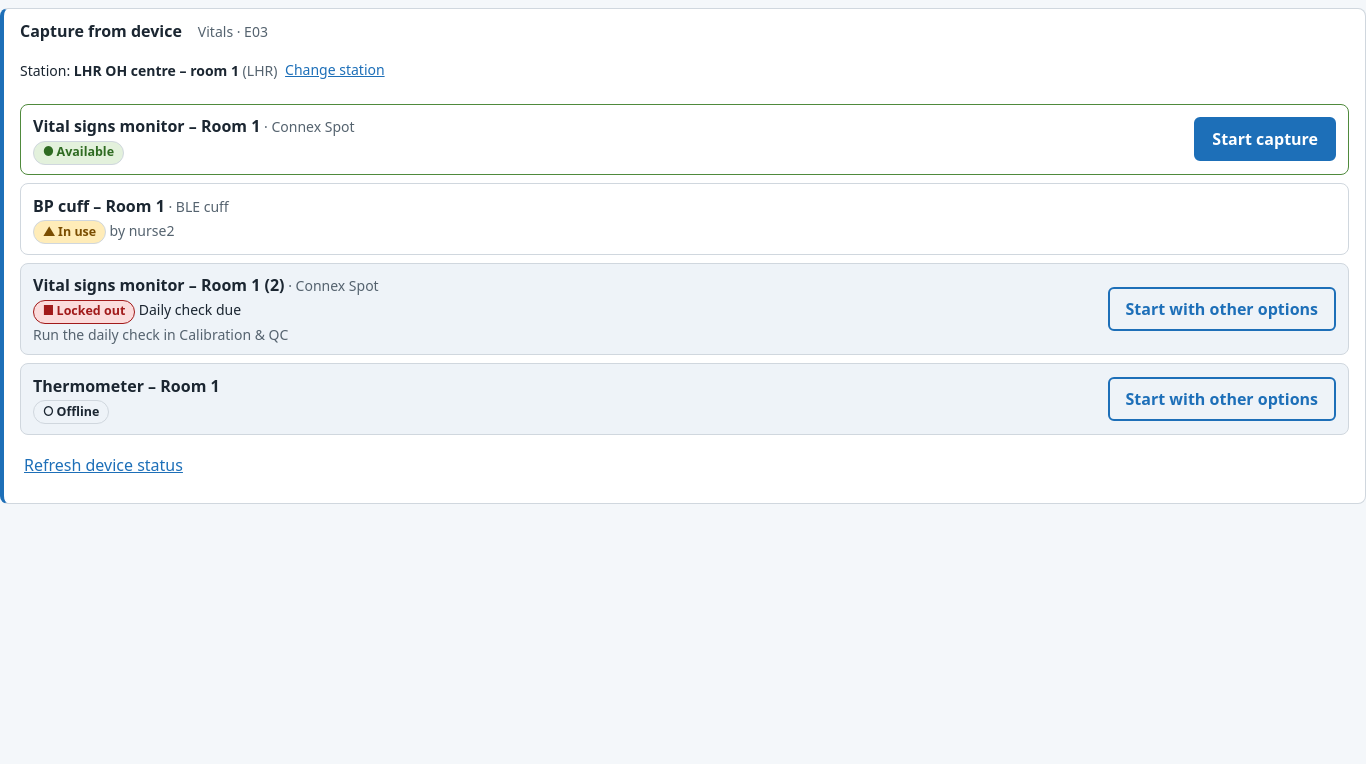
Test: Capture from device – session state transitions › a BLOCK flag disables posting, explains why and offers another device first
Click the button "Start capture" at (1265, 139), box [1194,117,1336,161]
(page scrolled)
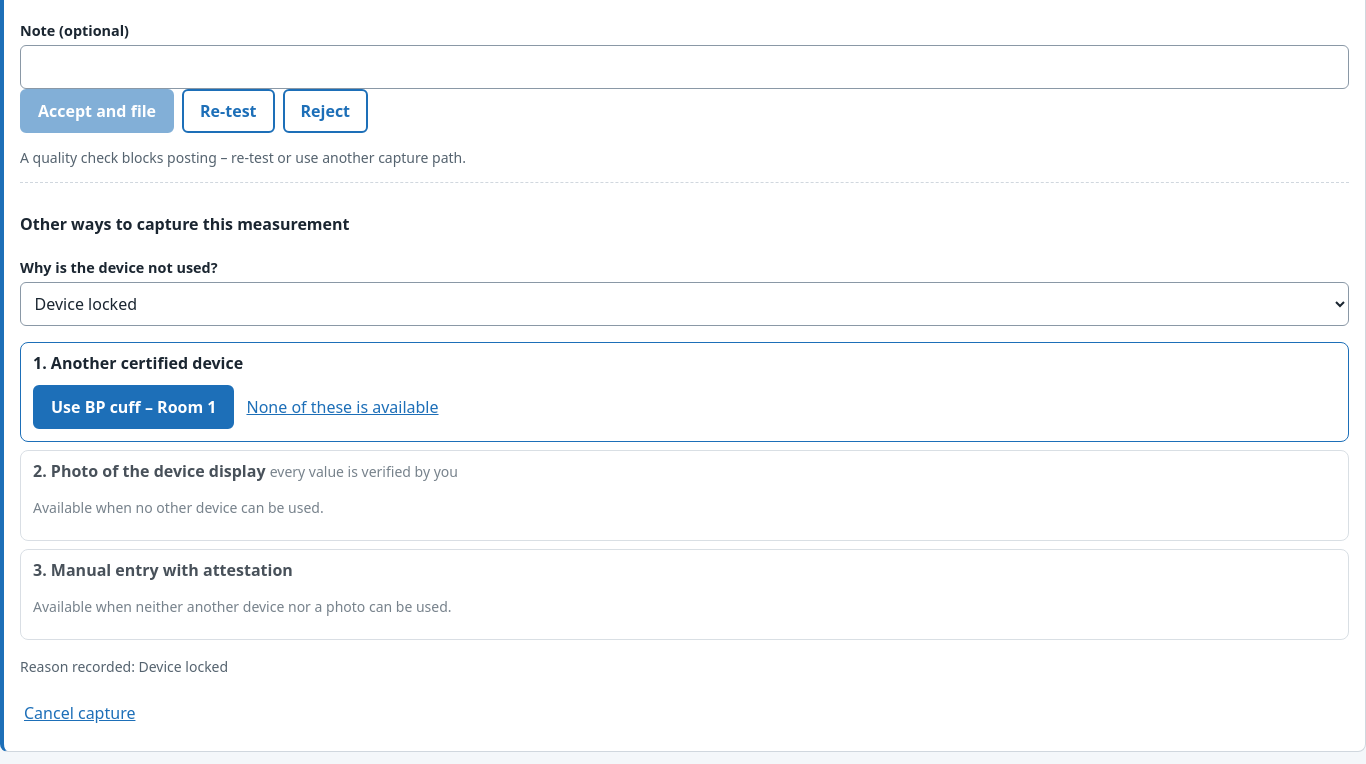
expect the button "Accept and file" is disabled: met, box [20,89,174,133]
expect the text "A quality check blocks posting" is shown: met, box [20,148,466,167]
expect the dropdown labelled "Why is the device not used?" shows "Device locked": met, box [20,282,1349,326]
Click the button "Use BP cuff – Room 1" at (134, 407), box [33,385,234,429]
(page scrolled)
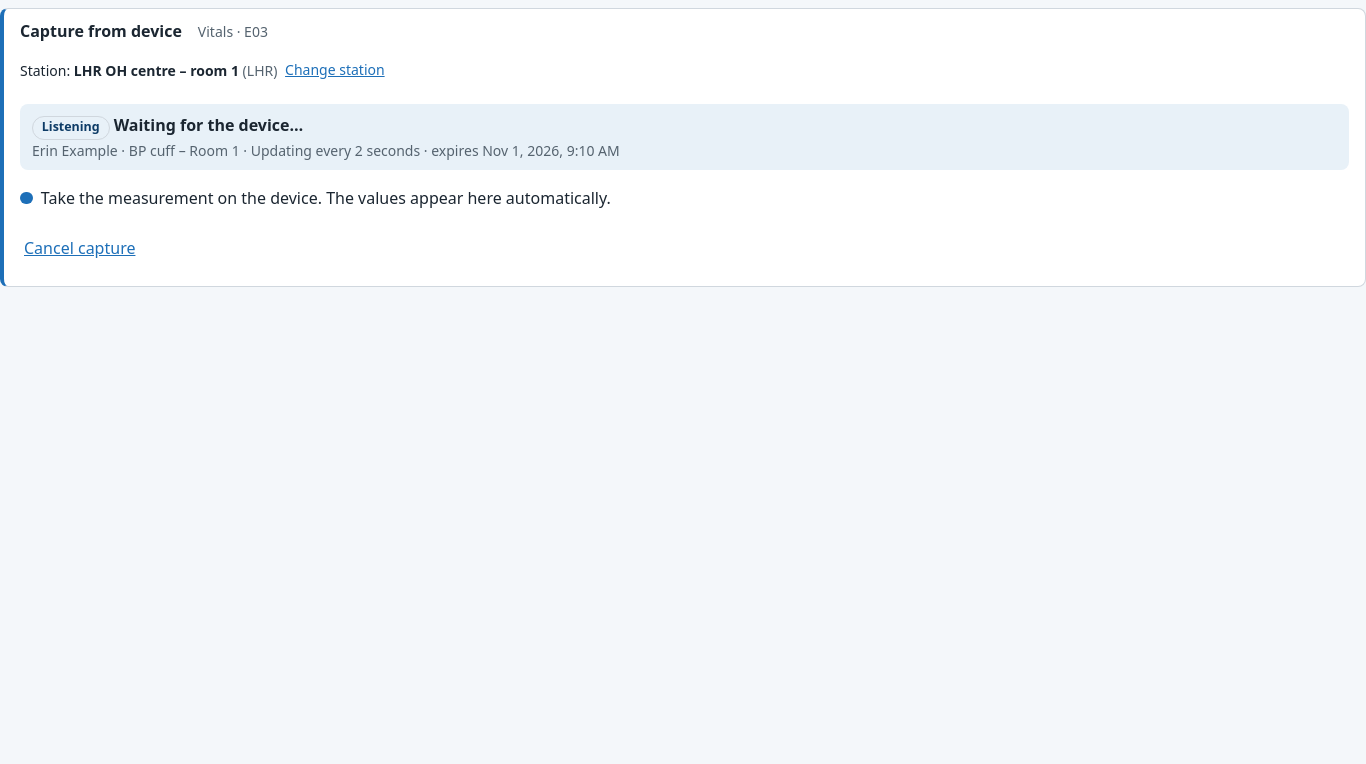
expect the text "Waiting for the device…" is shown: met, box [114,114,303,136]
expect the text "BP cuff – Room 1 · Updating every 2 seconds" is shown: met, box [32,140,620,160]
